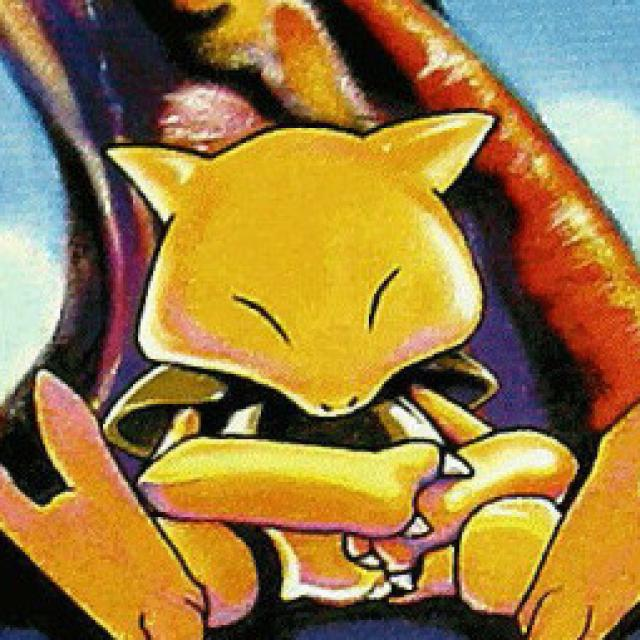Abra: (95, 106, 562, 600)
